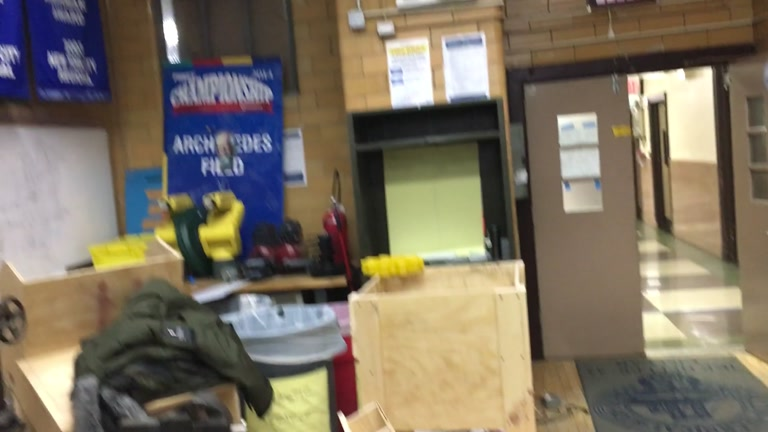gear: (360, 252, 426, 278)
